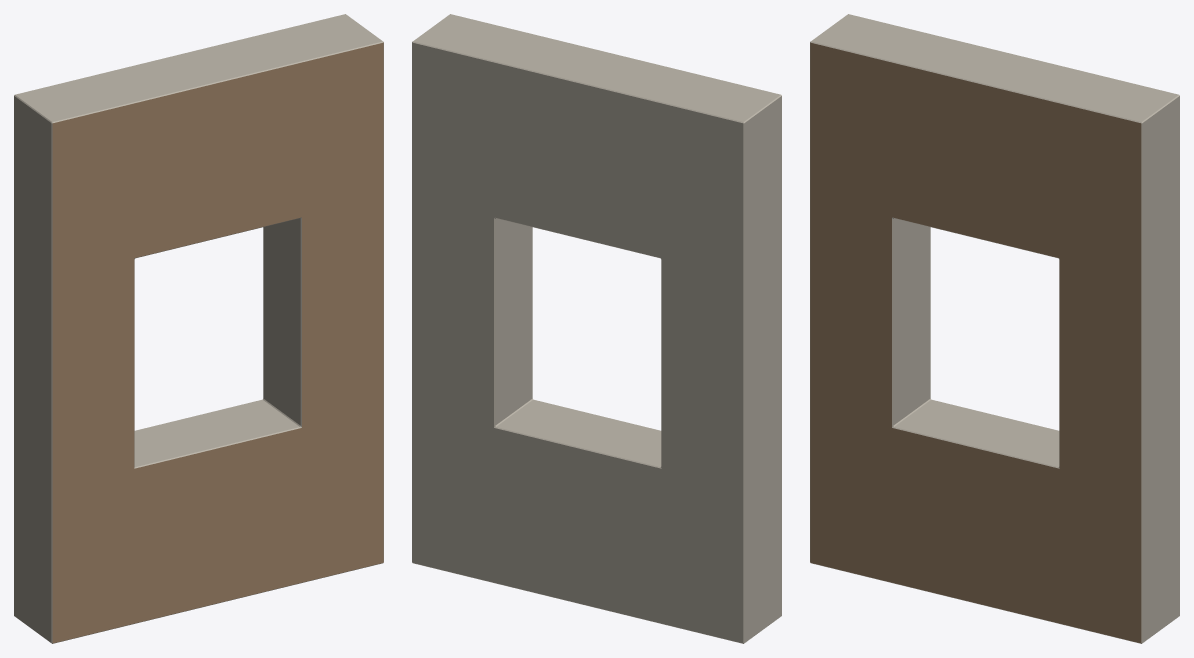
File: arch_wall_ext_window_w200_h300.glb
The picture shows the model from 3 angles, left to right: view 1: azimuth 30°, elevation 25°; view 2: azimuth 150°, elevation 25°; view 3: azimuth 330°, elevation 25°; orthographic projection.
Visible parts, largest first — view 1: Wall; view 2: Wall; view 3: Wall.
Part boxes in pixels (x1,y1,x2,y2): Wall: [14, 14, 383, 643]; Wall: [412, 14, 781, 643]; Wall: [810, 14, 1179, 643].
Size of what is drawn, in the model's own units: 2 by 3 by 0.4.
